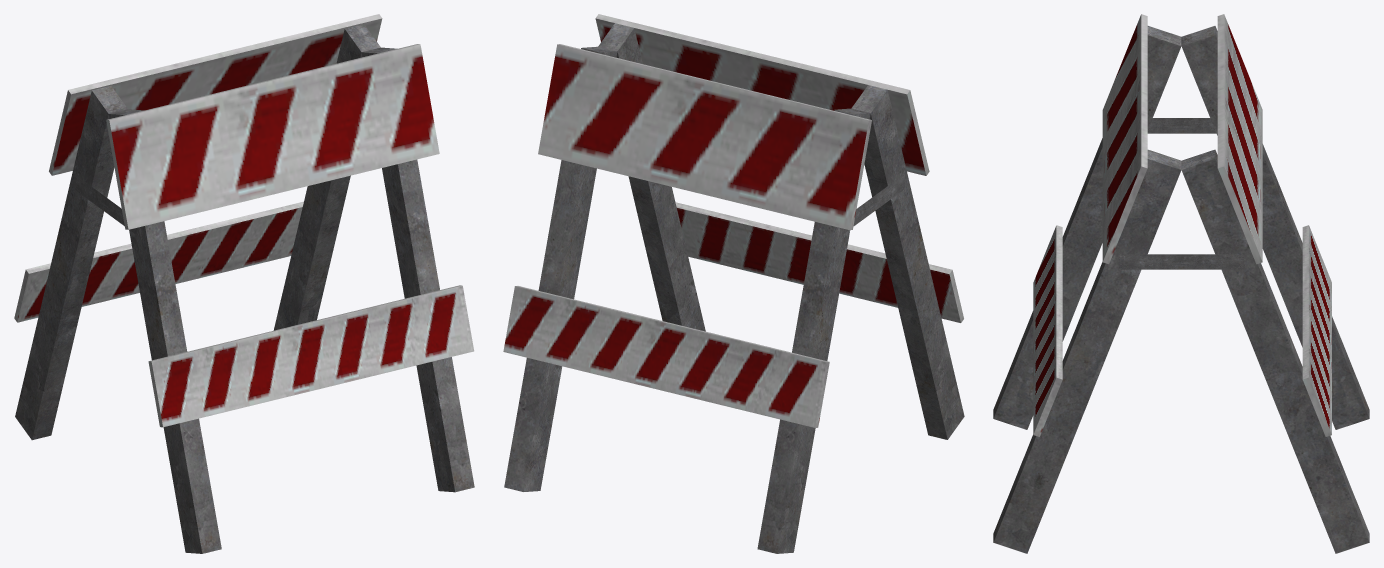
Rendered from road_barrier 1.FBX.
3 renders of one model, left to right at view 1: azimuth 30°, elevation 25°; view 2: azimuth 150°, elevation 25°; view 3: azimuth 270°, elevation 25°, orthographic.
Parts seen in each view (by area): view 1: polySurface997; view 2: polySurface997; view 3: polySurface997.
Part boxes in pixels (x1,y1,x2,y2): polySurface997: [14, 14, 474, 553]; polySurface997: [503, 14, 964, 553]; polySurface997: [993, 14, 1369, 553].
Bounding box in the file's own units: 0.4101 × 0.4983 × 0.4277.
